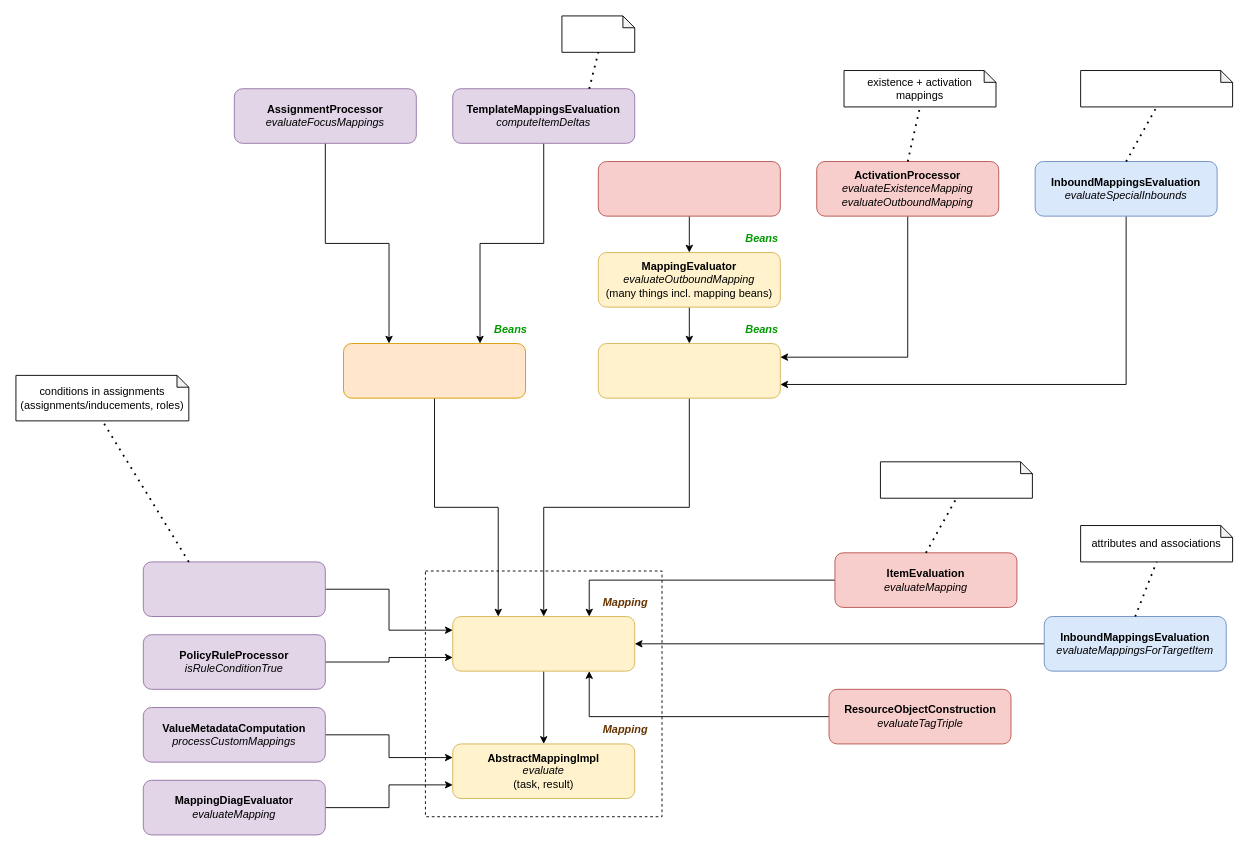
Some shapes in this 1249 by 851 pixel diagram are drawn without their labels. The box of each missing label's shape, as (x1, y1, x2, y2) in pixels:
attributes and associations in ConstructionEvaluation: (880, 461, 1032, 498)
ConditionEvaluator computeConditionState: (142, 561, 325, 617)
MappingEvaluator evaluateMapping (mapping, lensCtx, [projCtx]): (452, 616, 635, 671)
MappingEvaluator evaluateMappingSetProjection (mappingEvaluationParams): (597, 343, 780, 398)
MappingSetEvaluation evaluateMappingsToTriples (builder): (343, 343, 526, 398)
password, admin status, validity (from, to): (1080, 70, 1233, 107)
ProjectionCredentialsProcessor processProjectionPasswordMapping: (597, 161, 780, 216)
template, personas: (561, 15, 635, 52)
